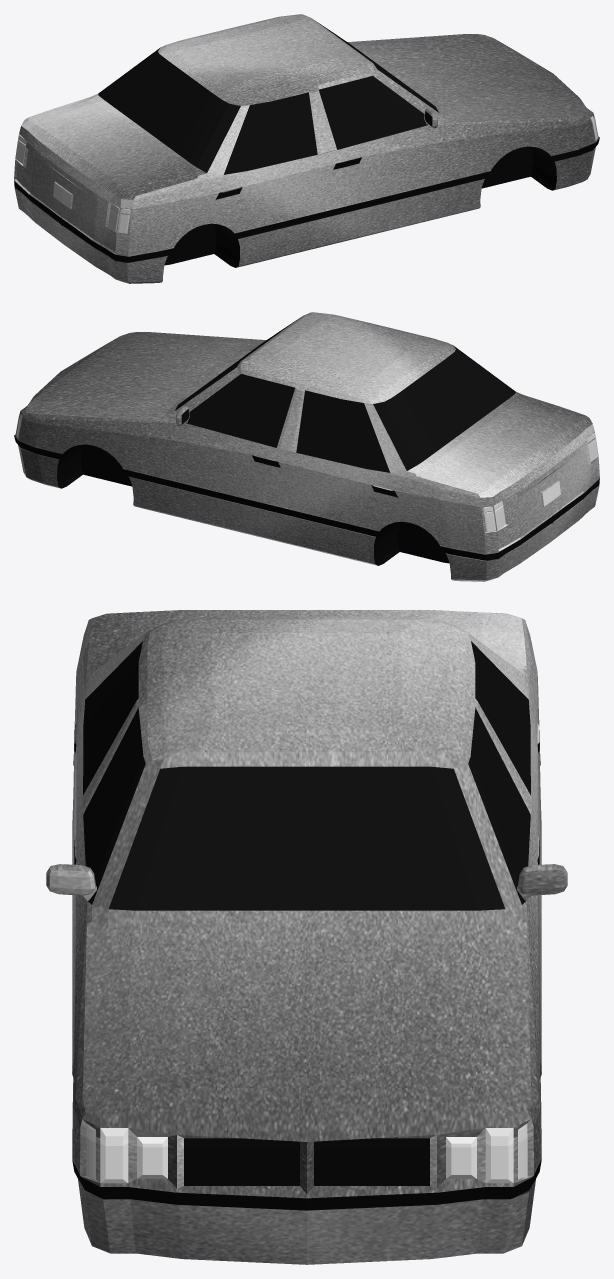
File: VECHICLE_CITY_CAR_02.fbx
3 views of the same model, one above another, from view 1: azimuth 30°, elevation 25°; view 2: azimuth 150°, elevation 25°; view 3: azimuth 270°, elevation 25° (orthographic). The views are drawn at different scales.
Visible parts, largest first — view 1: VECHICLE_CITY_CAR_02; view 2: VECHICLE_CITY_CAR_02; view 3: VECHICLE_CITY_CAR_02.
Part boxes in pixels (x1,y1,x2,y2): VECHICLE_CITY_CAR_02: (14, 14, 599, 283); VECHICLE_CITY_CAR_02: (14, 312, 599, 581); VECHICLE_CITY_CAR_02: (46, 610, 567, 1264).
Size of the model in its own units: 472 by 142 by 213.
